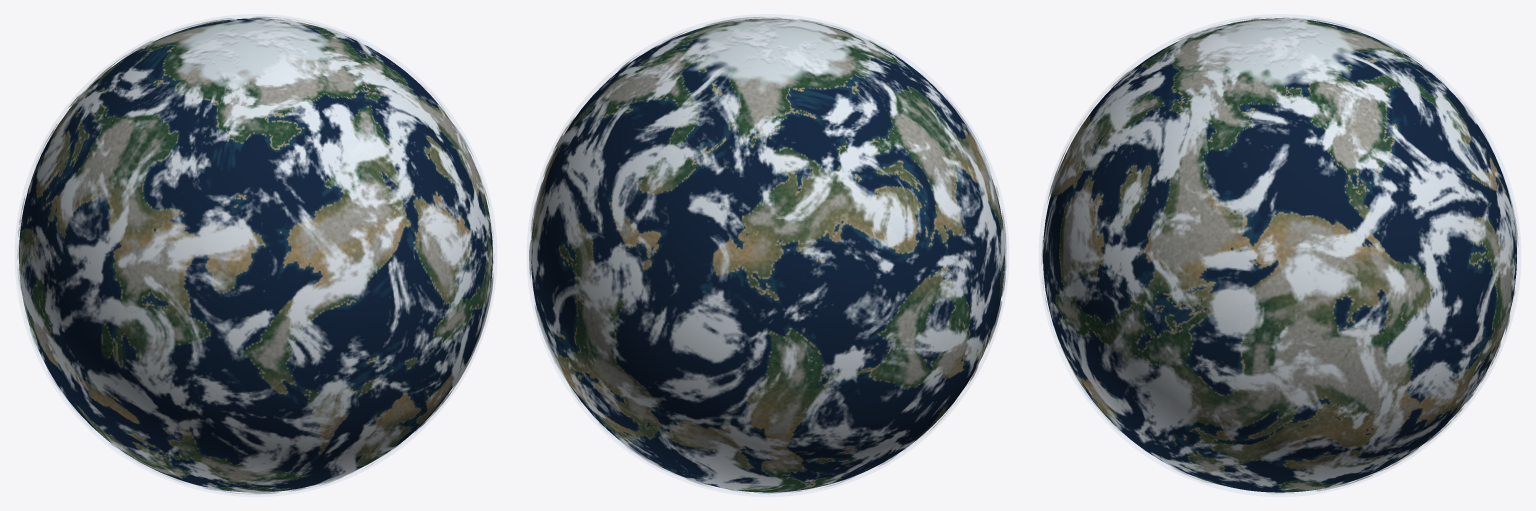
Rendered from planet.glb.
3 renders of one model, left to right at view 1: azimuth 30°, elevation 25°; view 2: azimuth 150°, elevation 25°; view 3: azimuth 270°, elevation 25°, orthographic.
Visible parts, largest first — view 1: Terrestrial planet, Cloud cover; view 2: Terrestrial planet, Cloud cover; view 3: Terrestrial planet, Cloud cover.
Boxes of the visible parts, box(x1,y1,x2,y2) form: Terrestrial planet: box(19, 18, 492, 492); Cloud cover: box(17, 16, 494, 494); Terrestrial planet: box(531, 18, 1004, 492); Cloud cover: box(529, 17, 1006, 494); Terrestrial planet: box(1043, 18, 1516, 492); Cloud cover: box(1041, 17, 1518, 494).
Bounding box in the file's own units: 3.06 × 3.06 × 3.06.
Materials: 3 (2 with a texture image).
